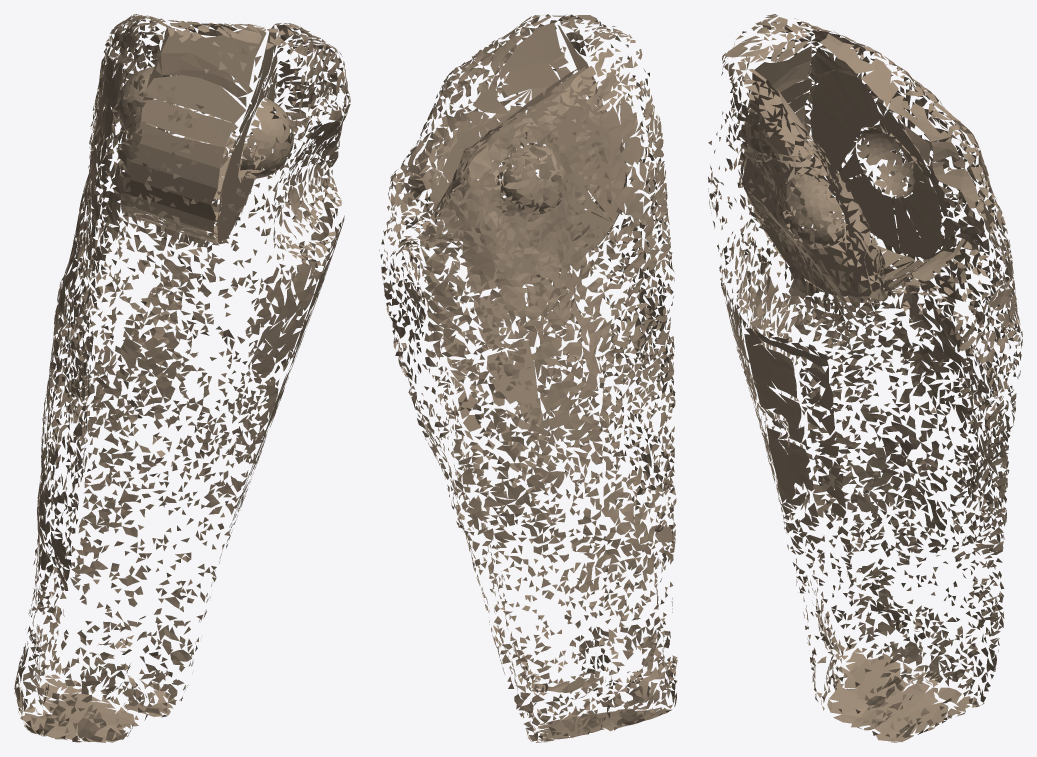
Rendered from rocky_pata_derecha_inferior.obj.
The picture shows the model from 3 angles, left to right: view 1: azimuth 30°, elevation 25°; view 2: azimuth 150°, elevation 25°; view 3: azimuth 270°, elevation 25°; orthographic projection. The views are drawn at different scales.
Bounding box in the file's own units: 0.1768 × 0.3963 × 0.1592.
Materials: 1 (1 with a texture image).
